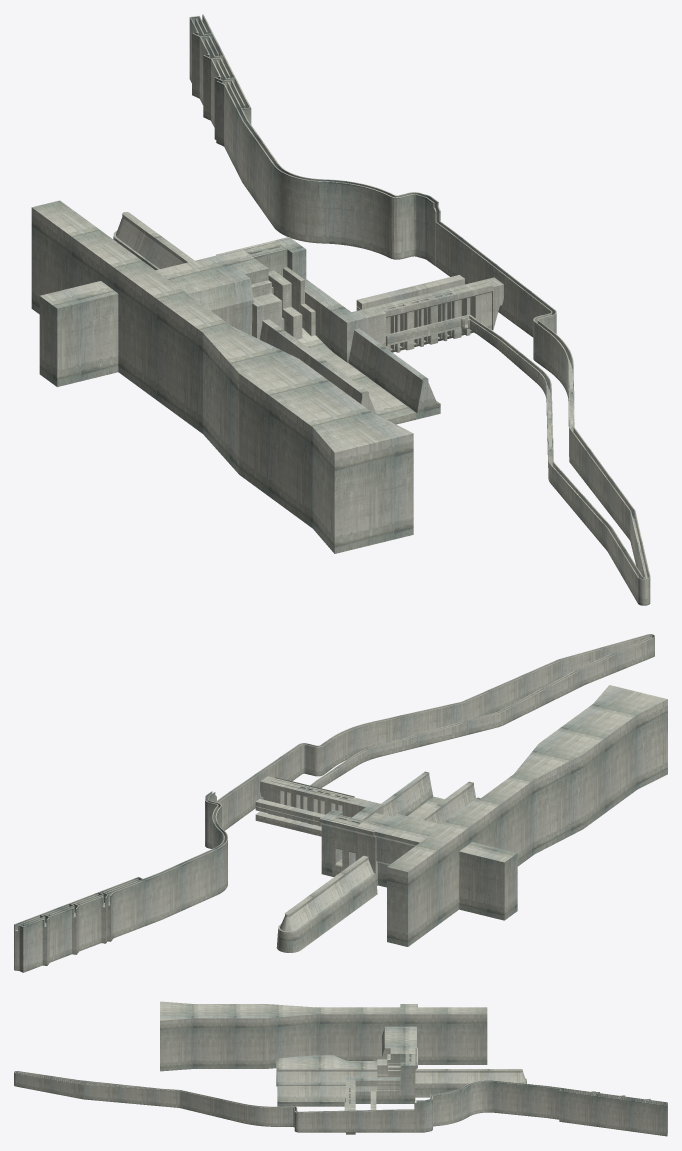
Rendered from daba_huangjinxia.obj.
3 views of the same model, one above another, from view 1: azimuth 30°, elevation 25°; view 2: azimuth 150°, elevation 25°; view 3: azimuth 270°, elevation 25° (orthographic). The views are drawn at different scales.
Visible parts, largest first — view 1: Box024, DB_yudao, DB_DB008, DB_DB007, Box002, DB_DB009, Line004, CF_CF_02_polySurface10997; view 2: DB_yudao, Box024, DB_DB009, Box002, DB_DB008, DB_DB007, Line004, CF_CF_02_polySurface10995, CF_CF_02_polySurface10997; view 3: Box024, DB_yudao, DB_DB009, DB_DB007, Line004, DB_DB008.
Part boxes in pixels (x1,y1,x2,y2): Box024: (31,200,413,553); DB_yudao: (189,14,650,605); DB_DB008: (241,240,503,424); DB_DB007: (275,237,440,419); Box002: (39,281,118,386); DB_DB009: (113,212,376,414); Line004: (156,255,253,335); CF_CF_02_polySurface10997: (356,275,464,309); DB_yudao: (14,634,654,972); Box024: (387,685,667,946); DB_DB009: (276,781,476,952); Box002: (459,842,517,920); DB_DB008: (260,776,444,876); DB_DB007: (319,771,433,876); Line004: (374,797,480,887); CF_CF_02_polySurface10995: (255,811,321,836); CF_CF_02_polySurface10997: (255,799,324,821); Box024: (160,1001,487,1071); DB_yudao: (14,1071,667,1136); DB_DB009: (277,1048,526,1097); DB_DB007: (277,1062,417,1106); Line004: (276,1026,416,1086); DB_DB008: (346,1054,417,1134).
Size of the model in its own units: 5136 by 1313 by 14078.
1 material, 1 textured.
